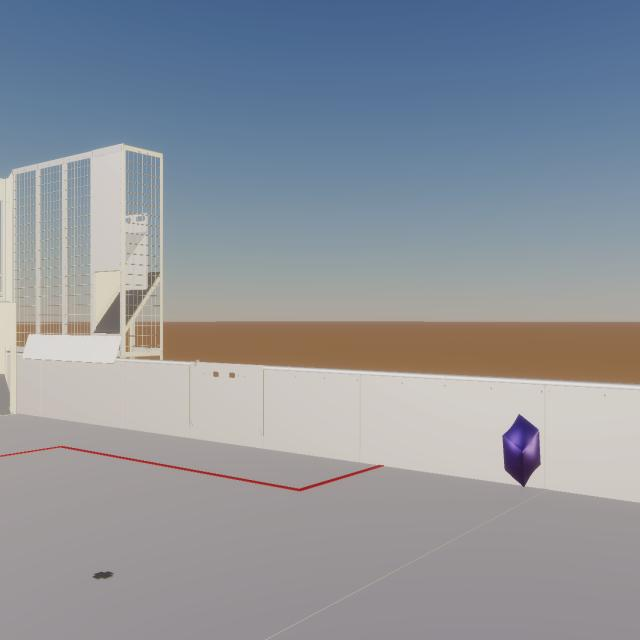frc_cube: (502, 414, 541, 487)
